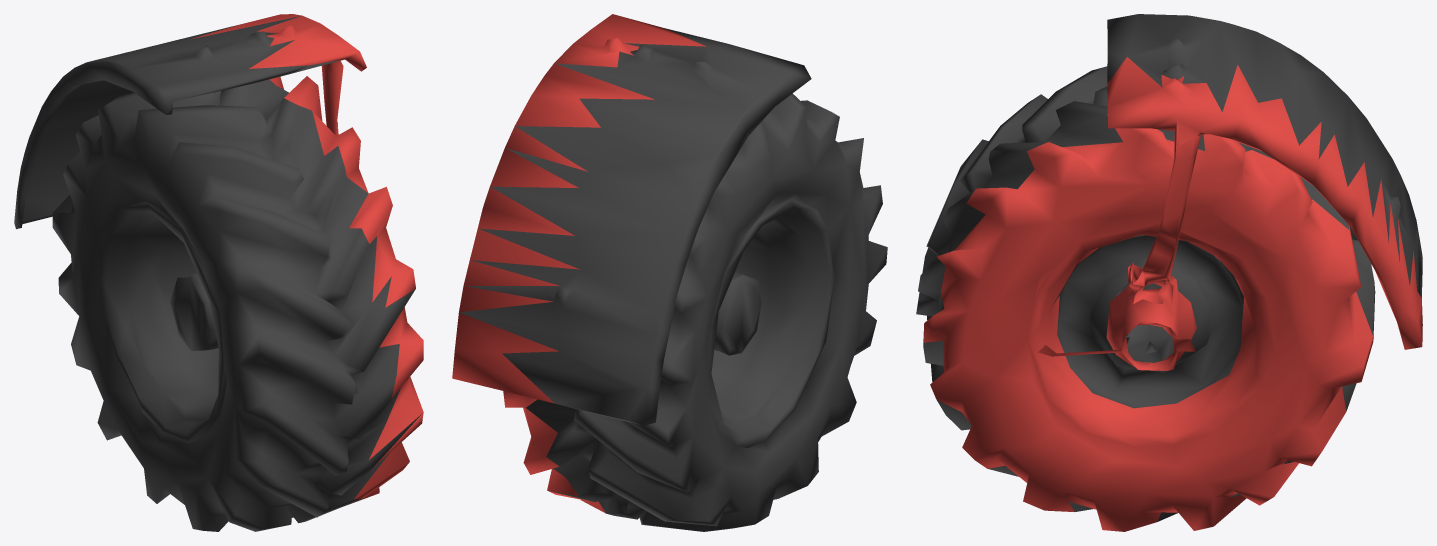
Rendered from mf8.roueg.glb.
The picture shows the model from 3 angles, left to right: view 1: azimuth 30°, elevation 25°; view 2: azimuth 150°, elevation 25°; view 3: azimuth 270°, elevation 25°; orthographic projection. The views are drawn at different scales.
Size of the model in its own units: 0.89 by 1.75 by 1.76.
